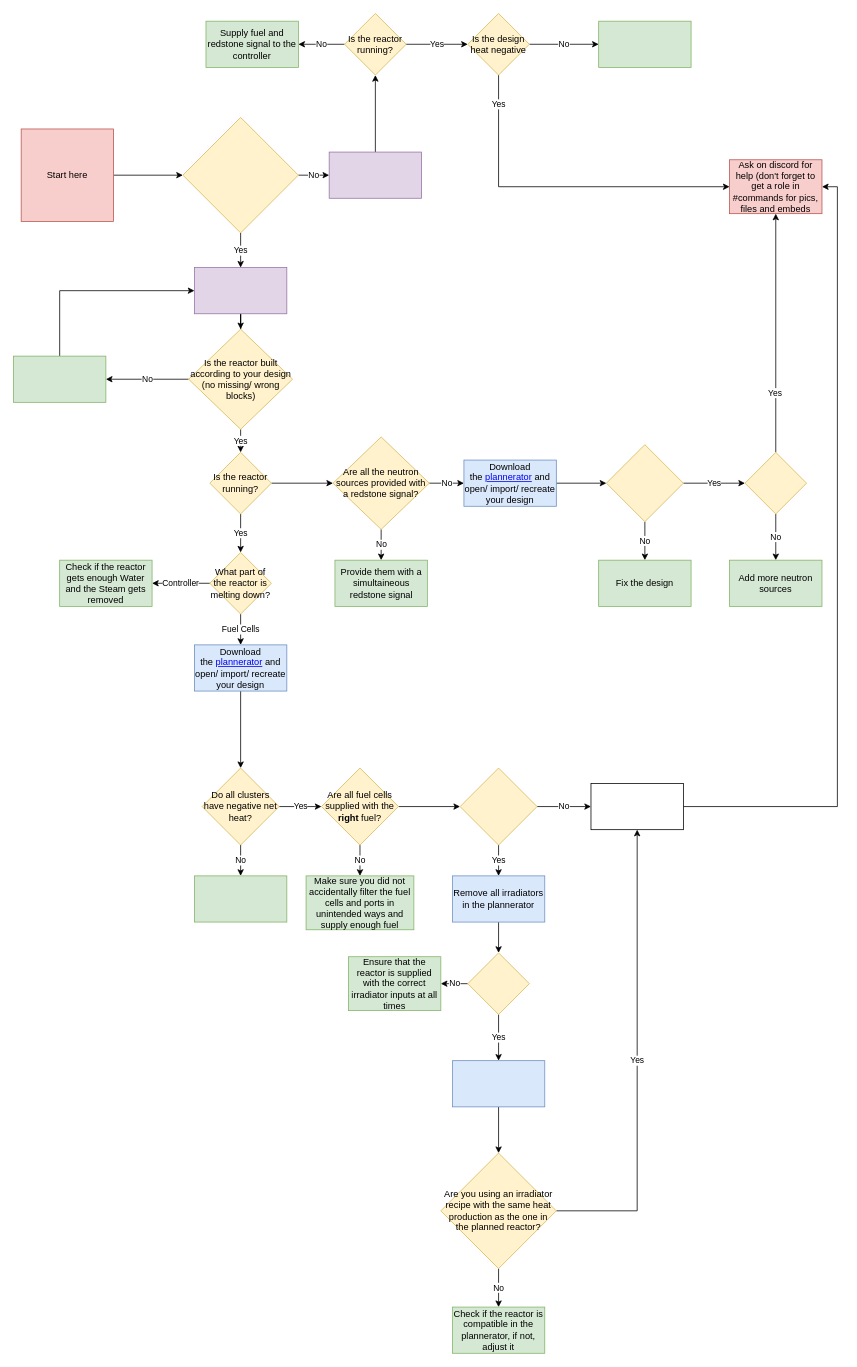
This 857x1367 diagram has some shape labels left out. The centre of each missing label's shape, as x and y in pixels:
Are enough cells primed?: (775,483)
Build it correctly: (59,378)
Do all cells have enough neutron flux?: (644,483)
Do you have Heat Sinks from nuclearcraft in JEI?: (240,175)
Does your design have irradiators?: (498,806)
Fix the reactor so they have: (240,898)
Is the reactor still heat stable?: (498,983)
Overhauled: (240,290)
Readd all the irradiators/ undo/ reload the file: (498,1083)
Underhauled: (375,174)
Use the Comparator Loop™ to shut the reactor down before it overheats: (644,43)
